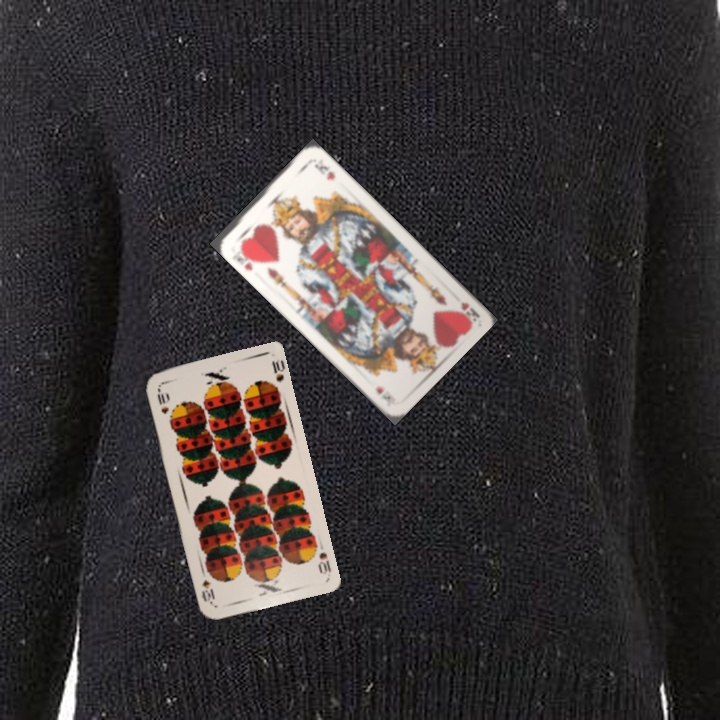HK: (233, 242, 261, 273), (456, 298, 481, 324)
S10: (314, 537, 334, 577), (153, 384, 171, 417)
